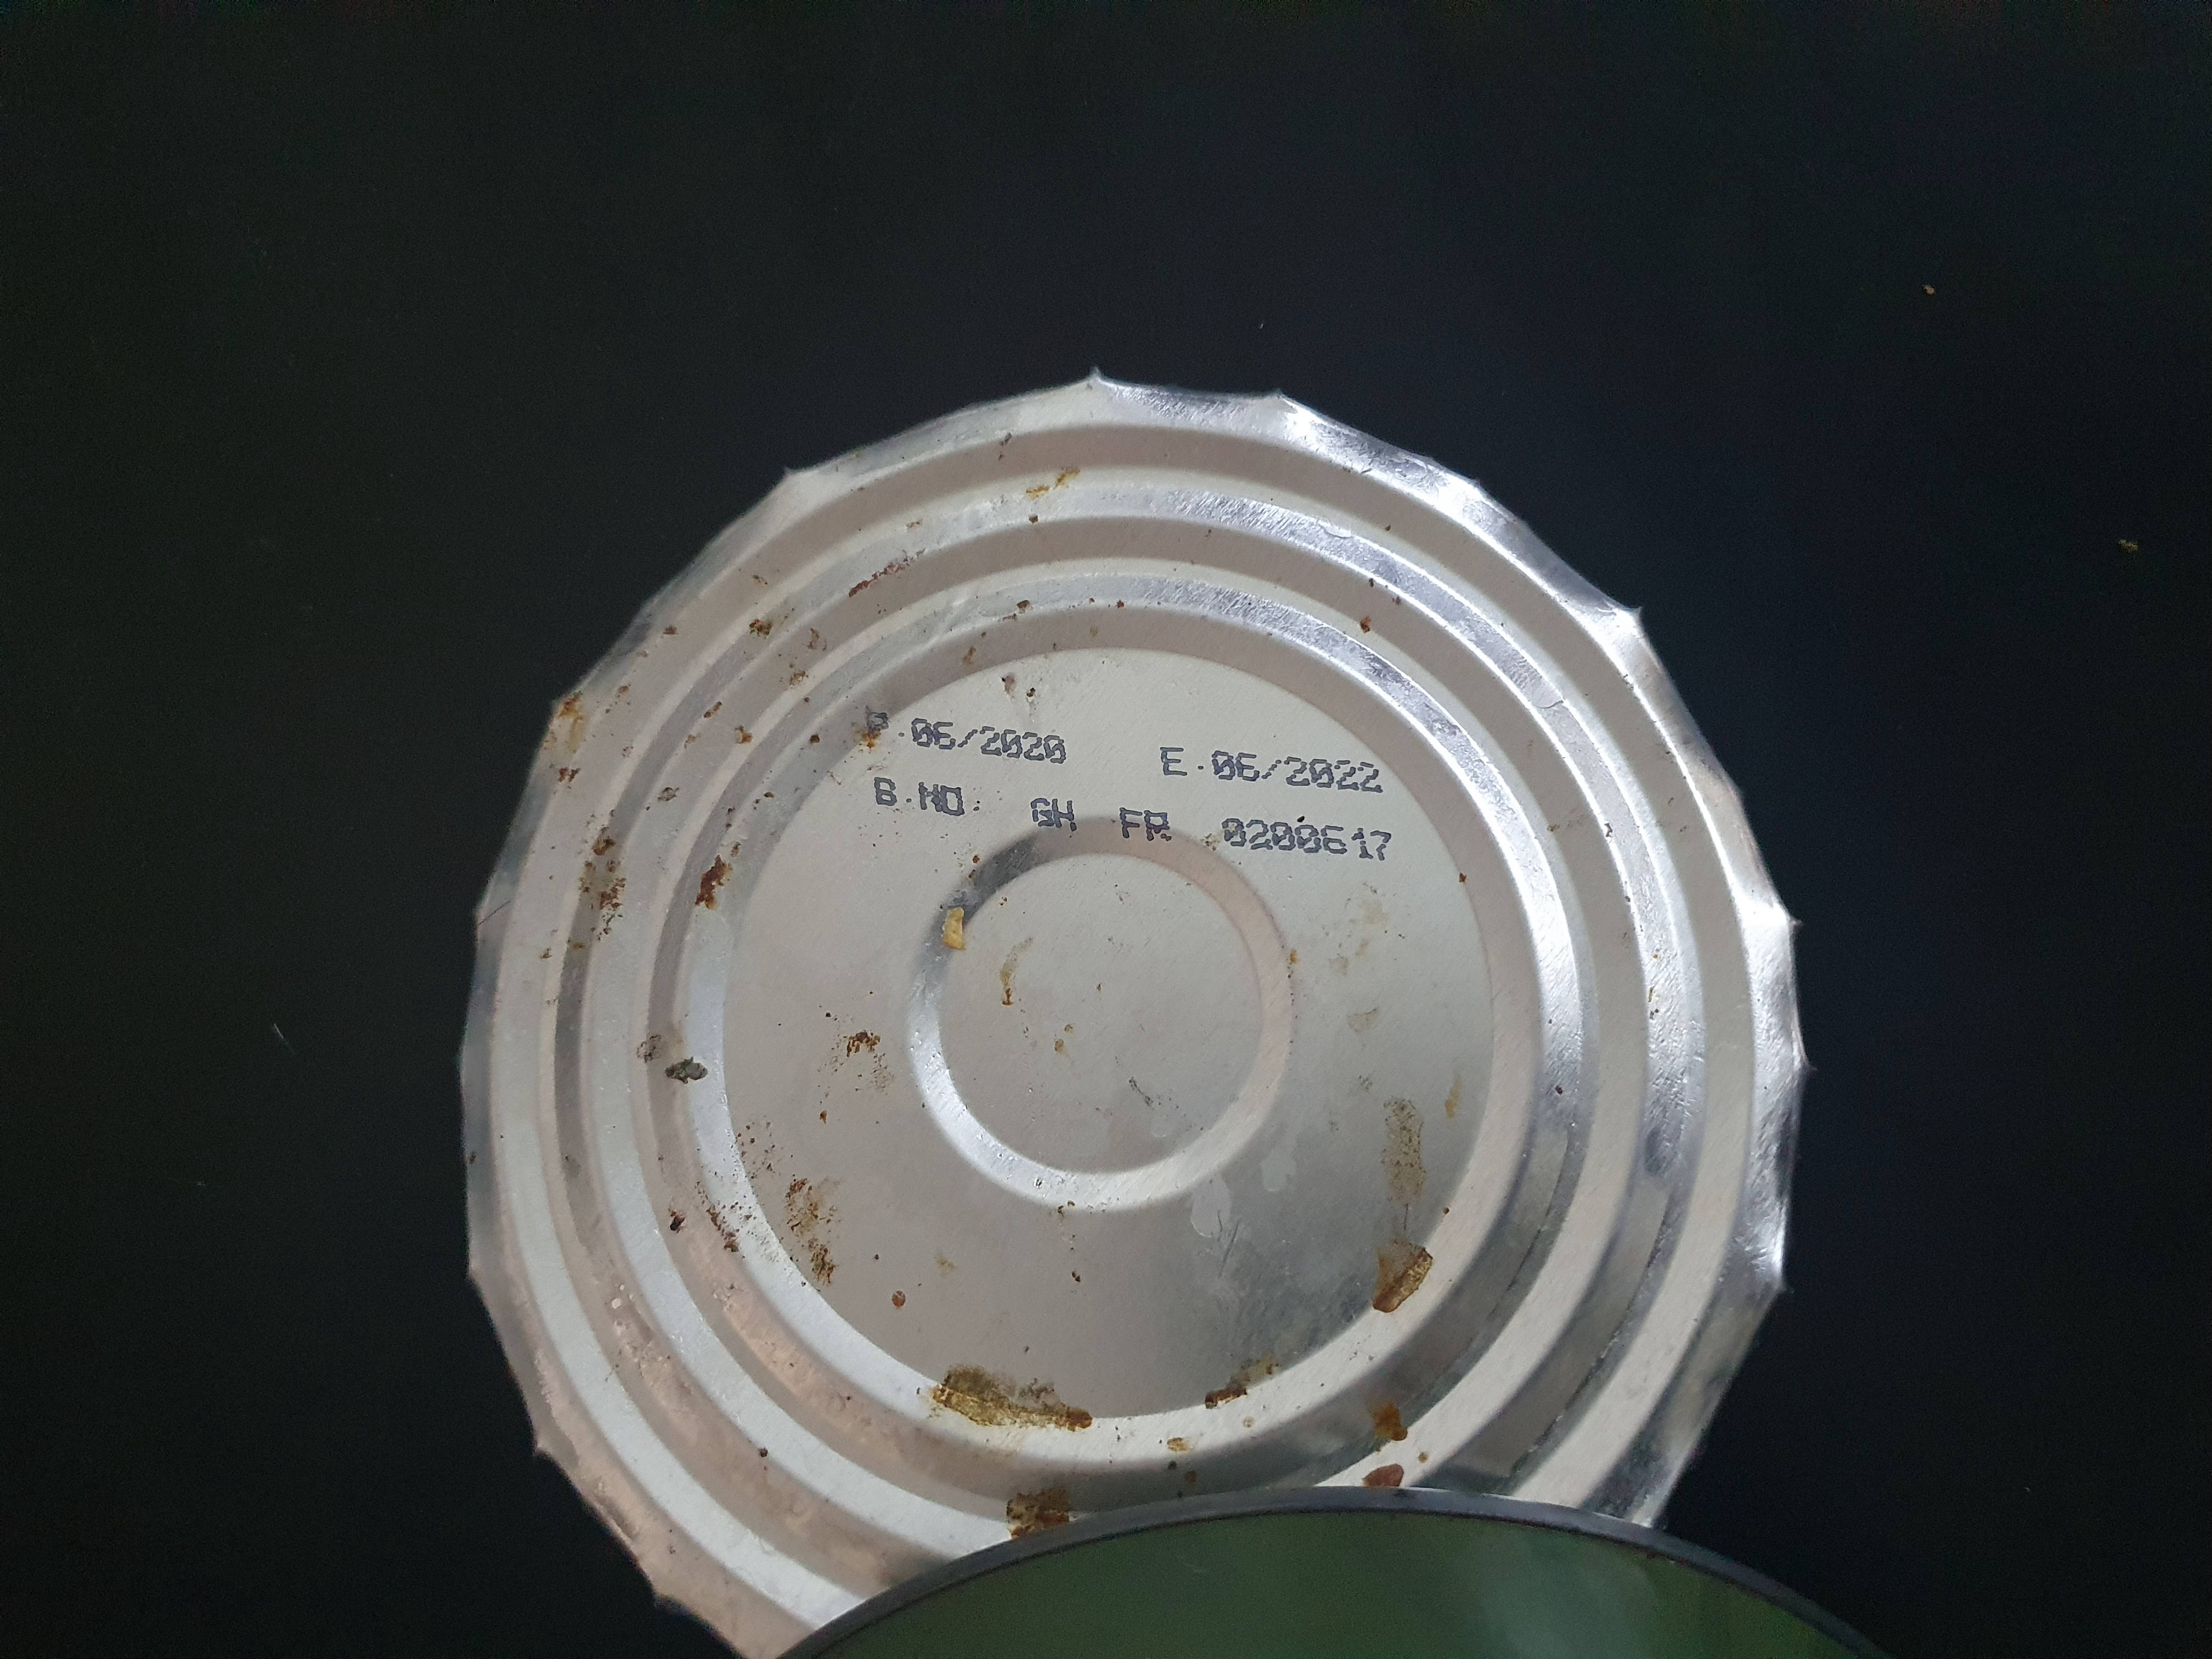metal: (327, 296, 1895, 1659)
